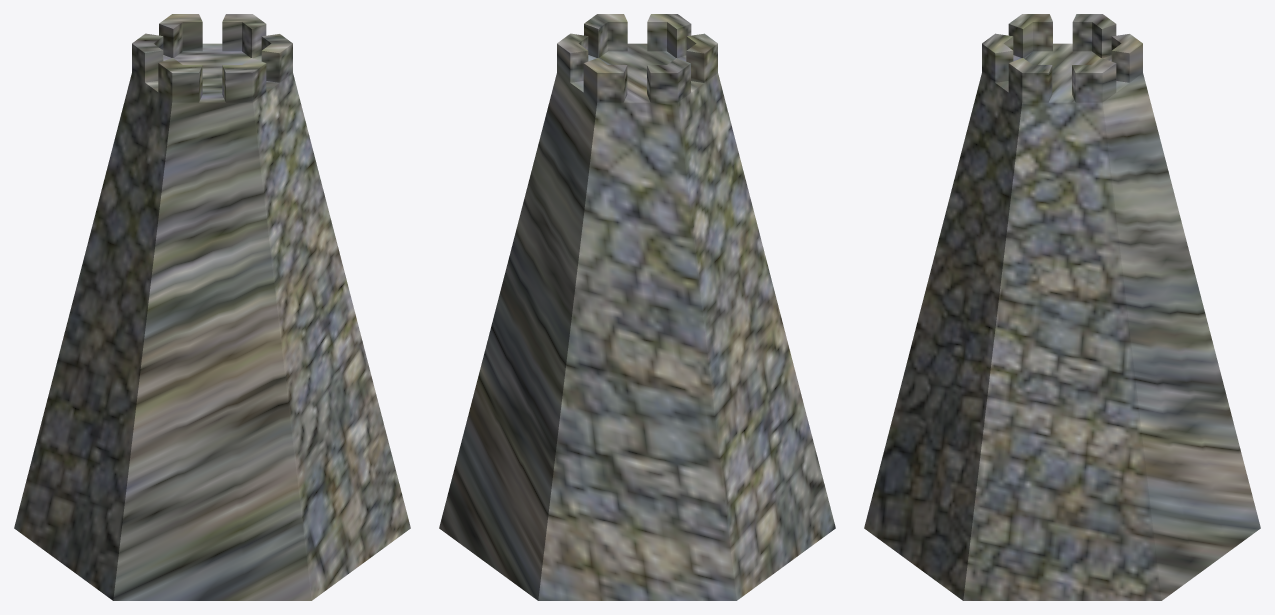
File: Tower.fbx
The picture shows the model from 3 angles, left to right: view 1: azimuth 30°, elevation 25°; view 2: azimuth 150°, elevation 25°; view 3: azimuth 270°, elevation 25°; orthographic projection.
Parts seen in each view (by area): view 1: Cylinder; view 2: Cylinder; view 3: Cylinder.
Part boxes in pixels (x1,y1,x2,y2): Cylinder: (14, 14, 410, 600); Cylinder: (439, 14, 835, 600); Cylinder: (864, 14, 1260, 600).
Size of the model in its own units: 364 by 567 by 421.
